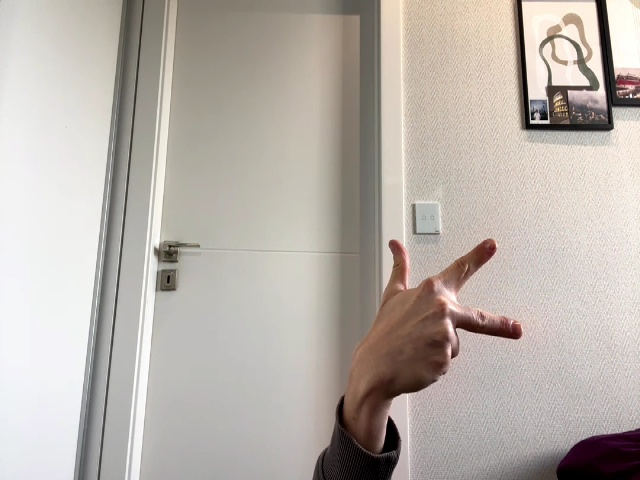K: (361, 239, 524, 409)
